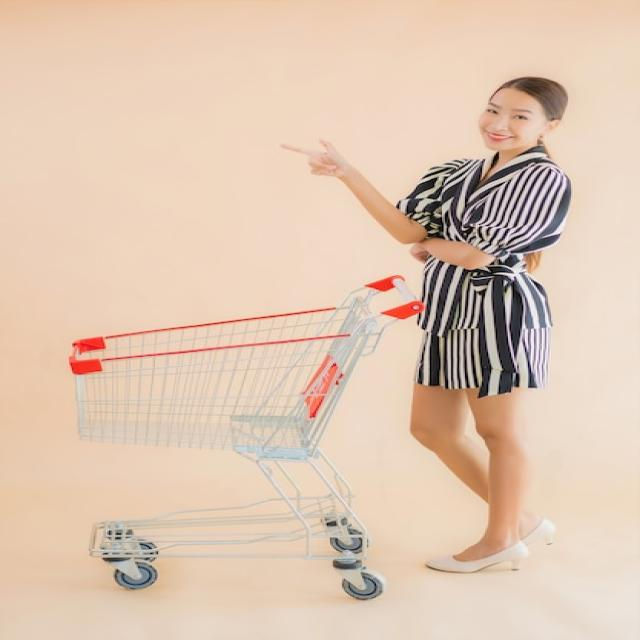Person: (281, 76, 571, 574)
